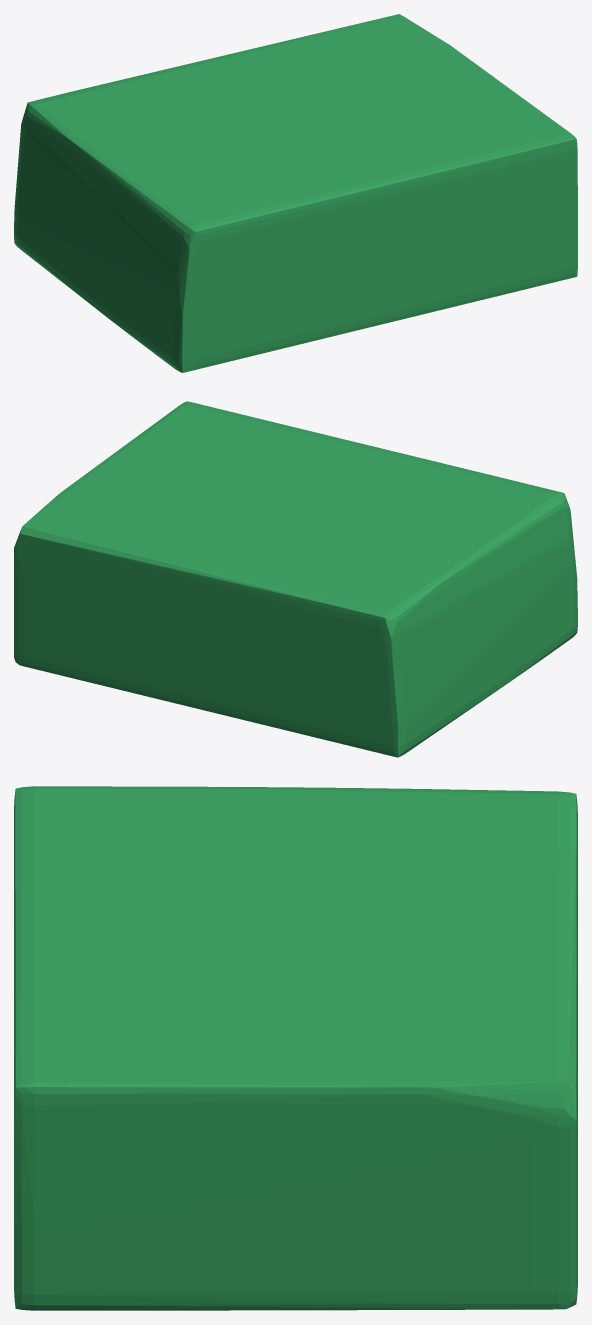
3 views of the same model, one above another, from view 1: azimuth 30°, elevation 25°; view 2: azimuth 150°, elevation 25°; view 3: azimuth 270°, elevation 25° (orthographic). The views are drawn at different scales.
Bounding box in the file's own units: 0.1903 × 0.064 × 0.1444.
